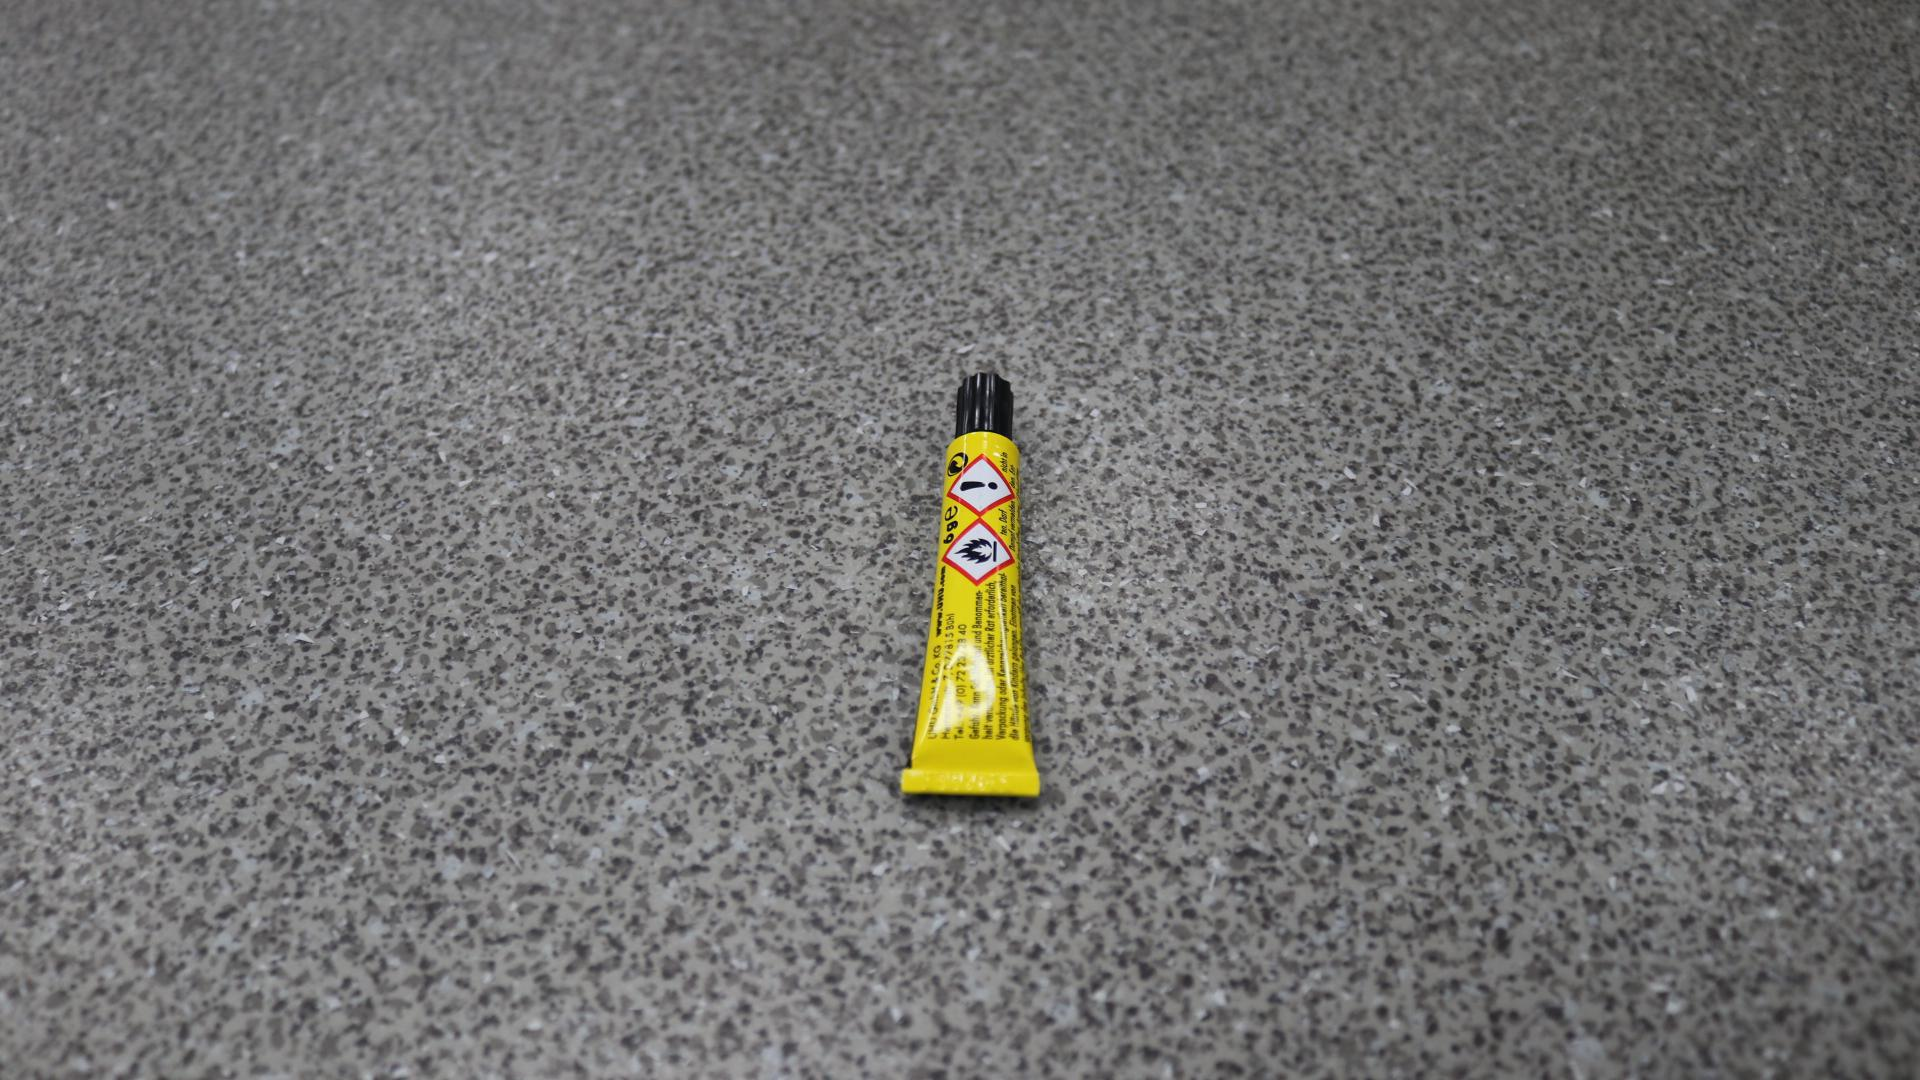Head: (980, 398, 991, 407)
Tail: (963, 776, 977, 788)
Tube: (898, 370, 1045, 797)
